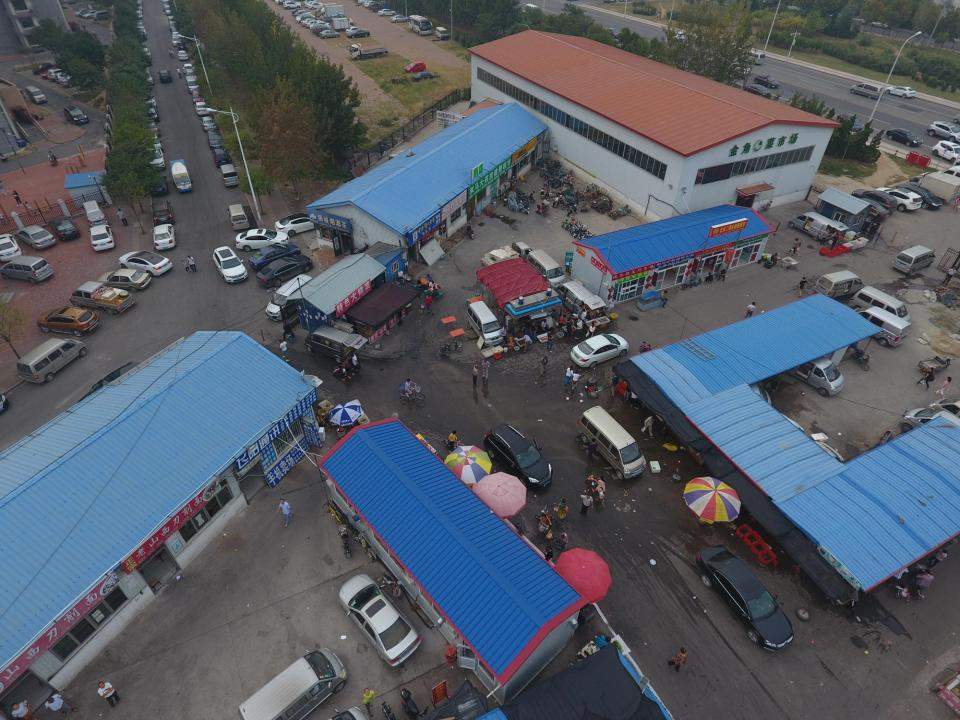bus: (407, 15, 432, 35)
car: (695, 544, 793, 650), (338, 572, 420, 668), (482, 423, 552, 490), (36, 306, 99, 338), (571, 333, 628, 368), (256, 256, 312, 286), (248, 242, 300, 271), (1, 256, 54, 283), (118, 251, 172, 277), (97, 268, 151, 292), (275, 212, 327, 236), (896, 182, 942, 209), (213, 247, 248, 282), (874, 187, 922, 212), (236, 229, 290, 251), (851, 189, 898, 214), (844, 198, 890, 221), (16, 226, 56, 250), (47, 216, 81, 240), (87, 224, 115, 252), (926, 121, 960, 142), (150, 224, 177, 250), (886, 128, 922, 147), (150, 200, 176, 226), (931, 140, 960, 163), (0, 234, 23, 262), (143, 145, 165, 171), (836, 113, 862, 131), (742, 83, 771, 98), (64, 106, 88, 124), (884, 85, 916, 98), (754, 74, 780, 90), (212, 147, 231, 168), (60, 74, 90, 87), (148, 176, 168, 195), (142, 133, 160, 153), (727, 61, 751, 75), (140, 104, 158, 122), (206, 130, 222, 150), (54, 72, 80, 84), (412, 71, 439, 82), (32, 63, 58, 74), (198, 116, 216, 131), (42, 66, 64, 78), (404, 60, 426, 72), (140, 68, 154, 86), (143, 122, 161, 136), (49, 68, 71, 79), (194, 101, 210, 116), (141, 94, 157, 108), (347, 29, 370, 38), (157, 70, 172, 83), (319, 30, 340, 39), (190, 91, 205, 103), (311, 25, 329, 34), (390, 15, 410, 23), (310, 21, 330, 29), (346, 26, 364, 34), (316, 27, 334, 35), (283, 1, 301, 9), (185, 70, 197, 82), (182, 63, 194, 75), (82, 11, 100, 18), (378, 9, 396, 16), (177, 50, 188, 61), (177, 40, 186, 52), (304, 2, 321, 8), (80, 10, 96, 16), (364, 2, 380, 8), (307, 3, 323, 9), (327, 14, 340, 21), (75, 8, 87, 15)
truck: (70, 281, 136, 313), (906, 172, 960, 204), (480, 242, 531, 272), (347, 43, 387, 60), (319, 4, 344, 22), (315, 3, 337, 20), (333, 18, 356, 30), (369, 1, 389, 12), (324, 13, 346, 23)
van: (239, 648, 347, 720), (578, 406, 646, 480), (17, 338, 87, 384), (850, 285, 910, 333), (786, 352, 845, 398), (848, 306, 912, 348), (901, 409, 960, 451), (303, 325, 368, 362), (265, 274, 313, 321), (554, 281, 606, 318), (789, 212, 849, 243), (466, 301, 502, 346), (813, 270, 863, 300), (527, 249, 565, 288), (892, 245, 935, 275), (168, 159, 192, 193), (80, 200, 108, 227), (226, 204, 250, 230), (850, 81, 884, 99), (218, 164, 240, 187), (25, 85, 47, 104), (738, 50, 765, 65), (185, 76, 199, 92), (435, 26, 449, 40), (93, 10, 110, 21), (525, 4, 538, 15)
